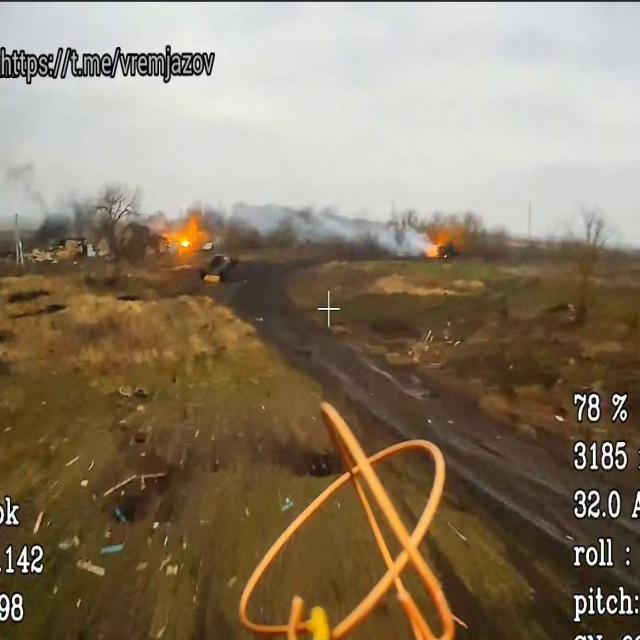fortification: (16, 218, 110, 271)
vehicle: (200, 244, 245, 290), (427, 228, 468, 274)
